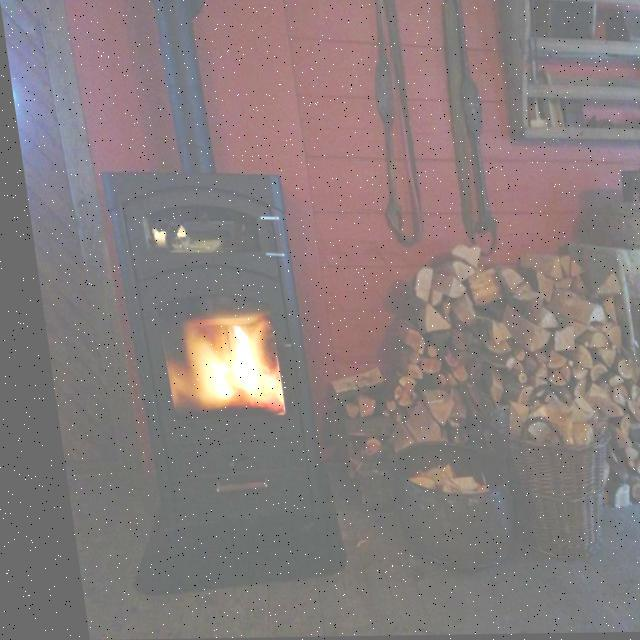Fire: (145, 306, 278, 420)
